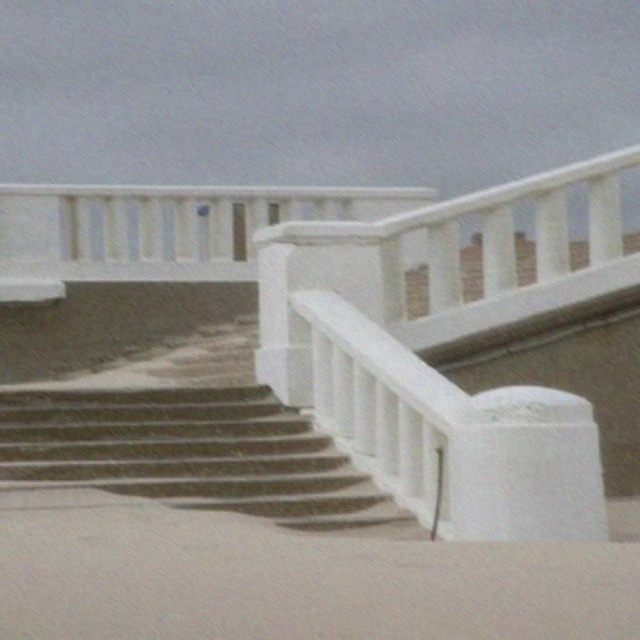stair: (0, 231, 640, 532)
